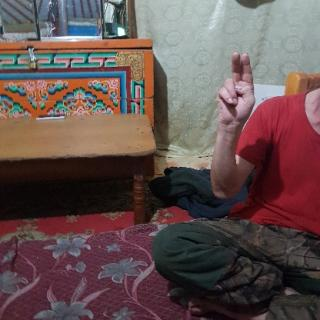TA: (214, 47, 260, 128)
